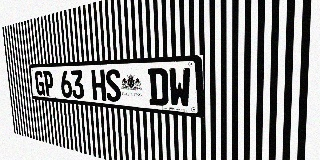3: (71, 70, 84, 99)
6: (60, 70, 72, 98)
D: (148, 68, 169, 106)
G: (34, 71, 45, 96)
H: (91, 69, 106, 101)
P: (43, 71, 54, 97)
S: (105, 69, 121, 102)
W: (168, 67, 191, 108)
